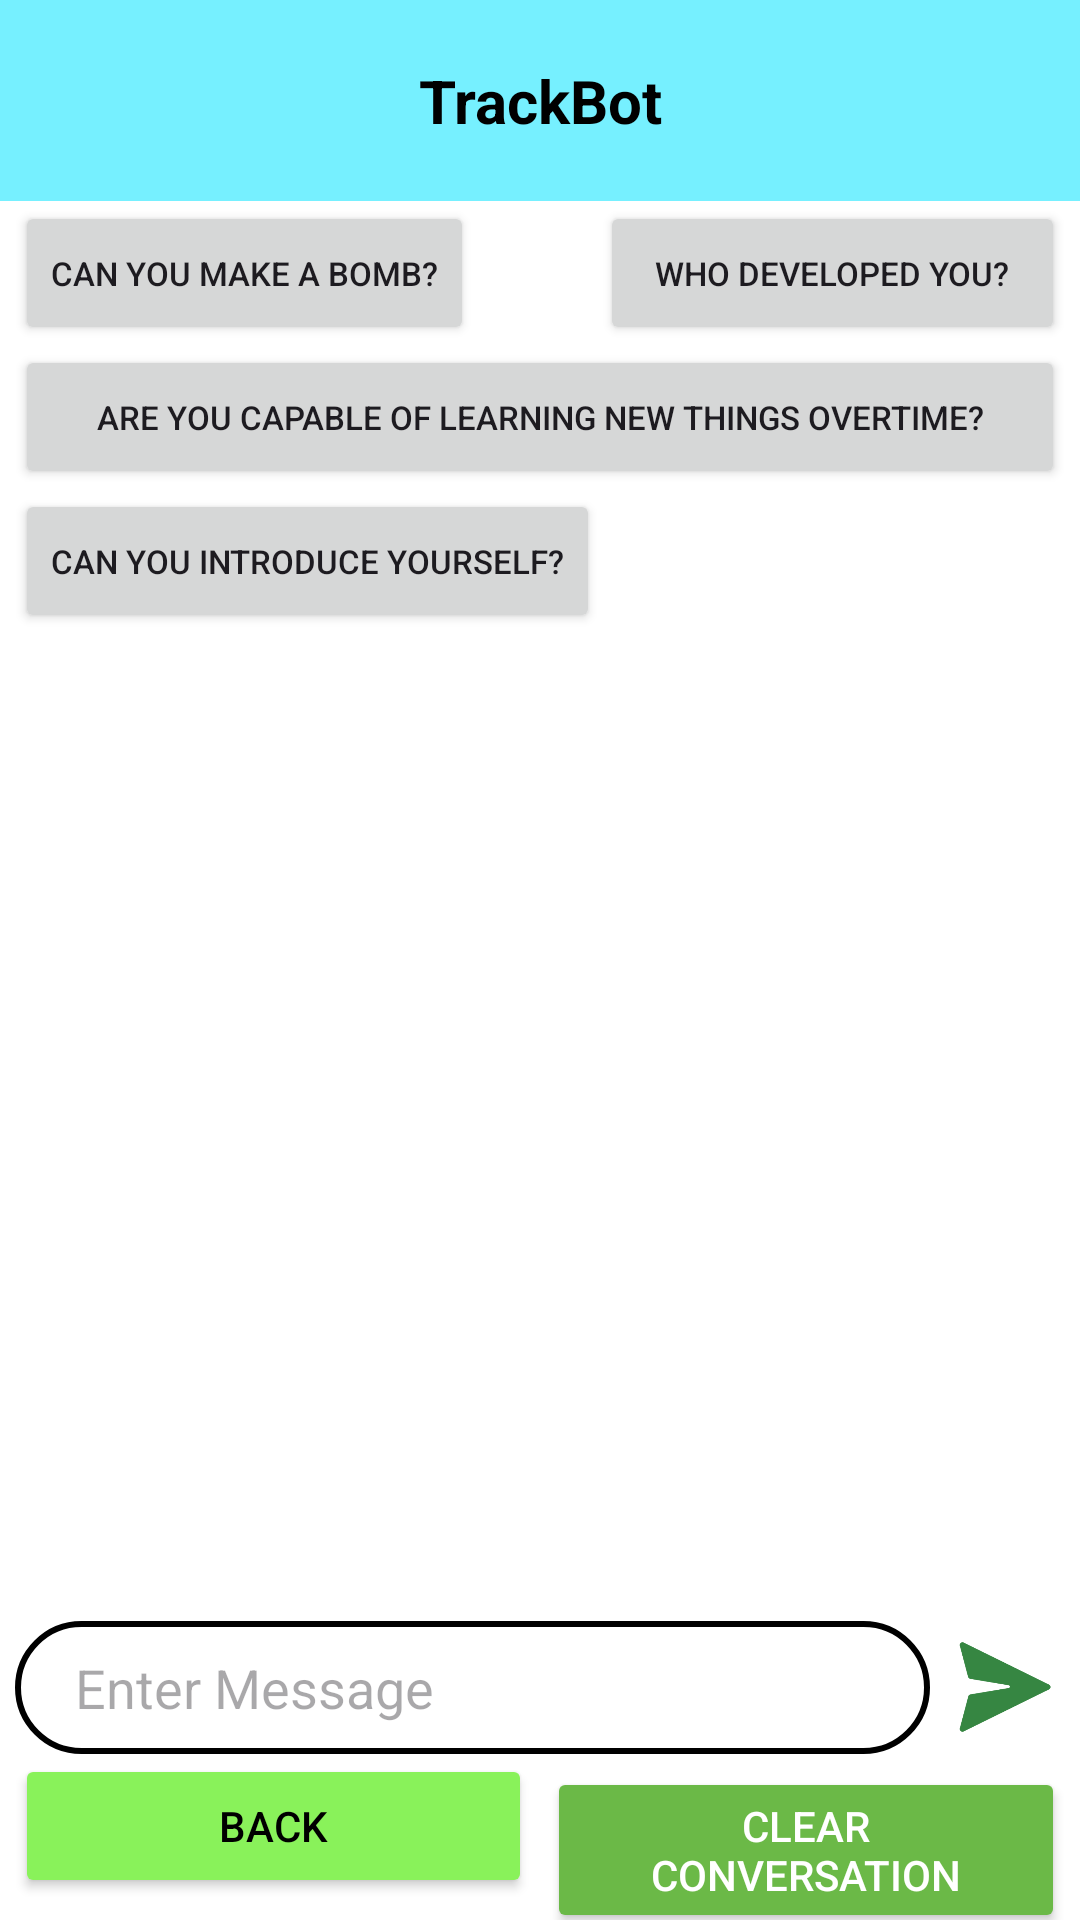

Icon bounding boxes for this 1080x1920 phone screenshot, format (x1, y1, x2, y2):
sendbtn: (959, 1642, 1051, 1732)
